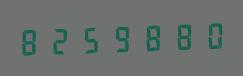eight: (17, 23, 46, 58), (137, 19, 166, 54), (167, 18, 196, 53)
five: (77, 21, 106, 56)
nine: (107, 20, 136, 55)
two: (47, 22, 76, 57)
zero: (197, 17, 226, 52)
